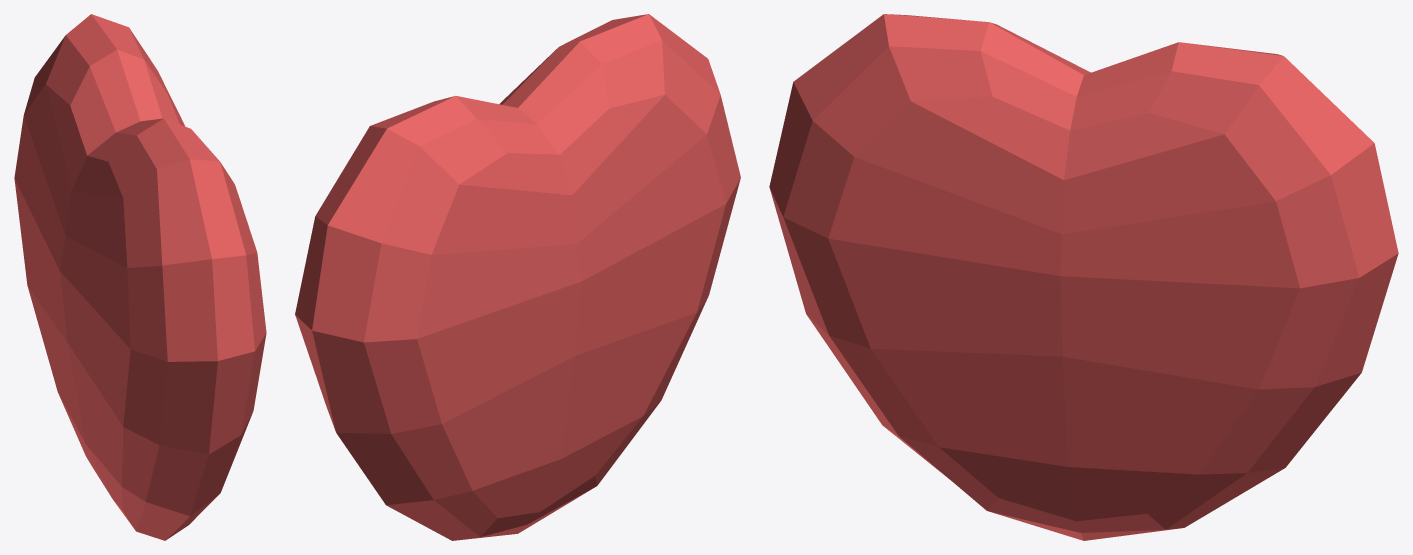
File: corazon_rata.fbx
3 renders of one model, left to right at view 1: azimuth 30°, elevation 25°; view 2: azimuth 150°, elevation 25°; view 3: azimuth 270°, elevation 25°, orthographic. The views are drawn at different scales.
Parts seen in each view (by area): view 1: Sphere; view 2: Sphere; view 3: Sphere.
Boxes of the visible parts, x1=… form: Sphere: x1=14, y1=14, x2=266, y2=540; Sphere: x1=295, y1=14, x2=740, y2=540; Sphere: x1=769, y1=14, x2=1398, y2=540.
Size of the model in its own units: 85.13 by 173 by 194.
